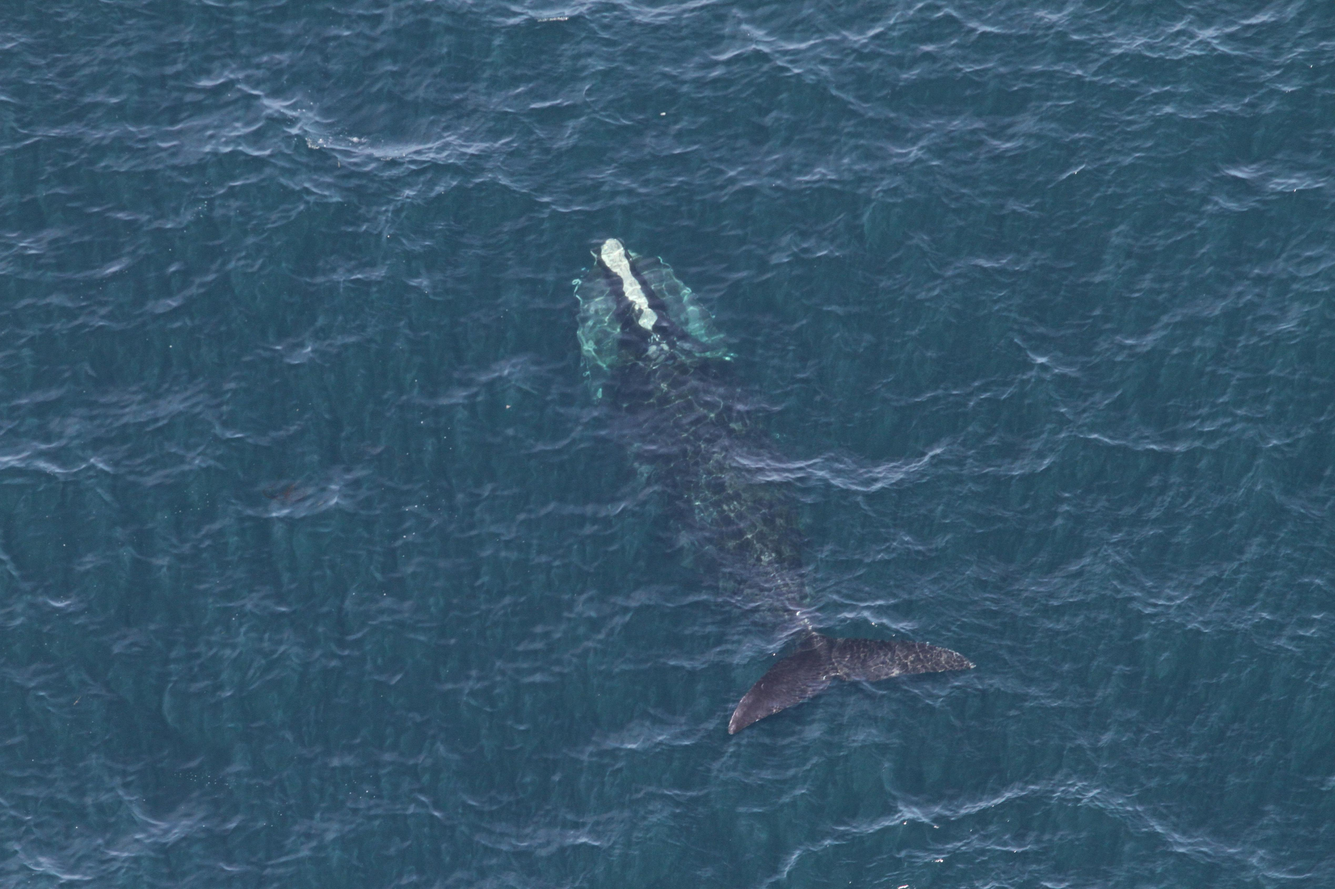whale: (565, 232, 983, 750)
